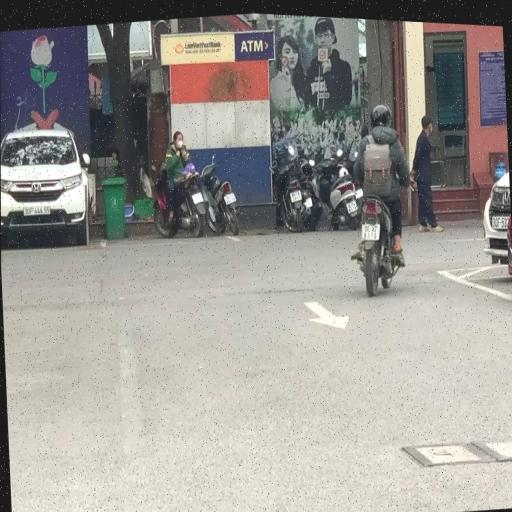bike: (345, 96, 415, 297)
numberplate: (358, 214, 382, 241), (288, 183, 302, 202), (344, 194, 358, 212), (223, 186, 235, 202), (192, 186, 202, 202)
with helmet: (370, 100, 394, 125)
